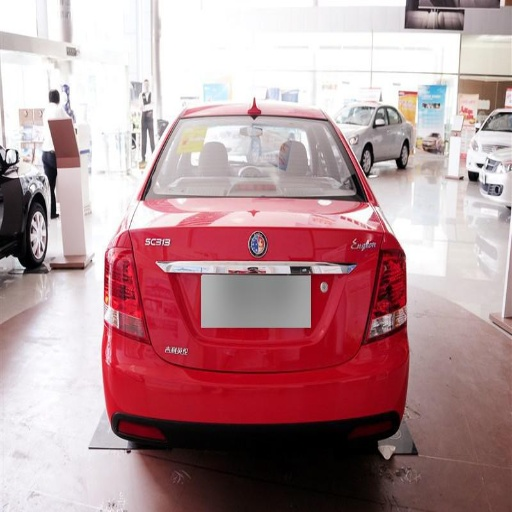back_bumper: (104, 326, 406, 476)
tailgate: (161, 198, 380, 370), (129, 217, 164, 322)
